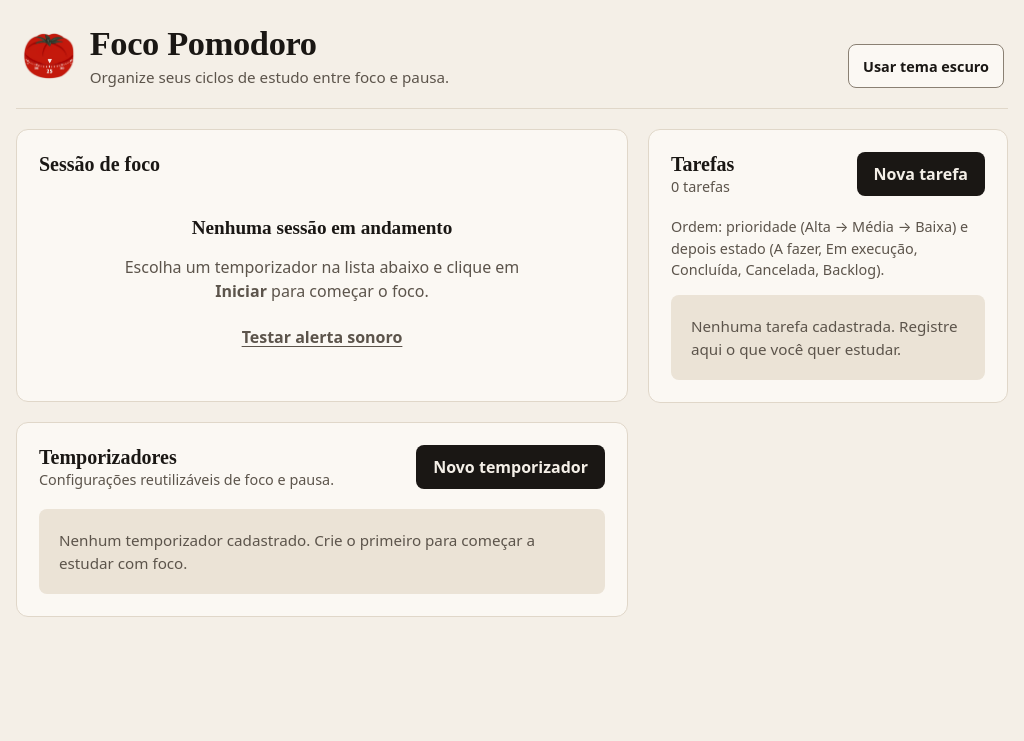
Test case: temporizadores personalizados (UC01, UC02, UC03) › cria um temporizador válido e o exibe na lista
Click the button "Novo temporizador". click: [511, 467]
box: [416,445,605,489]
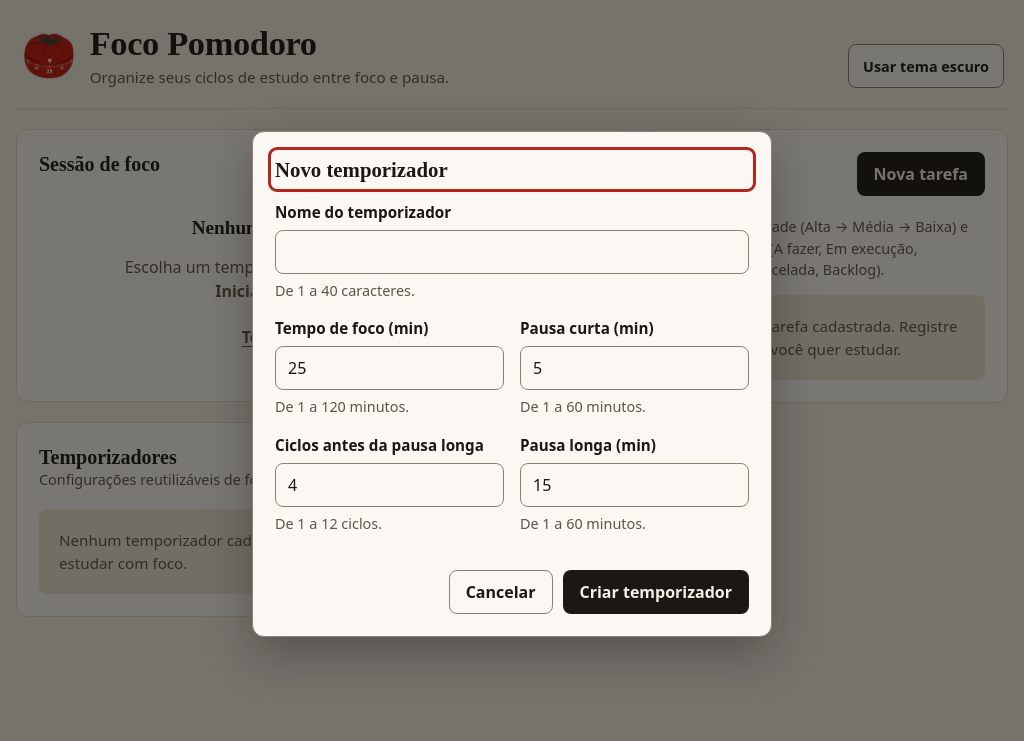
Type "Matemática" into the field labelled "Nome do temporizador". click: [512, 252]
box: [275,230,749,274]
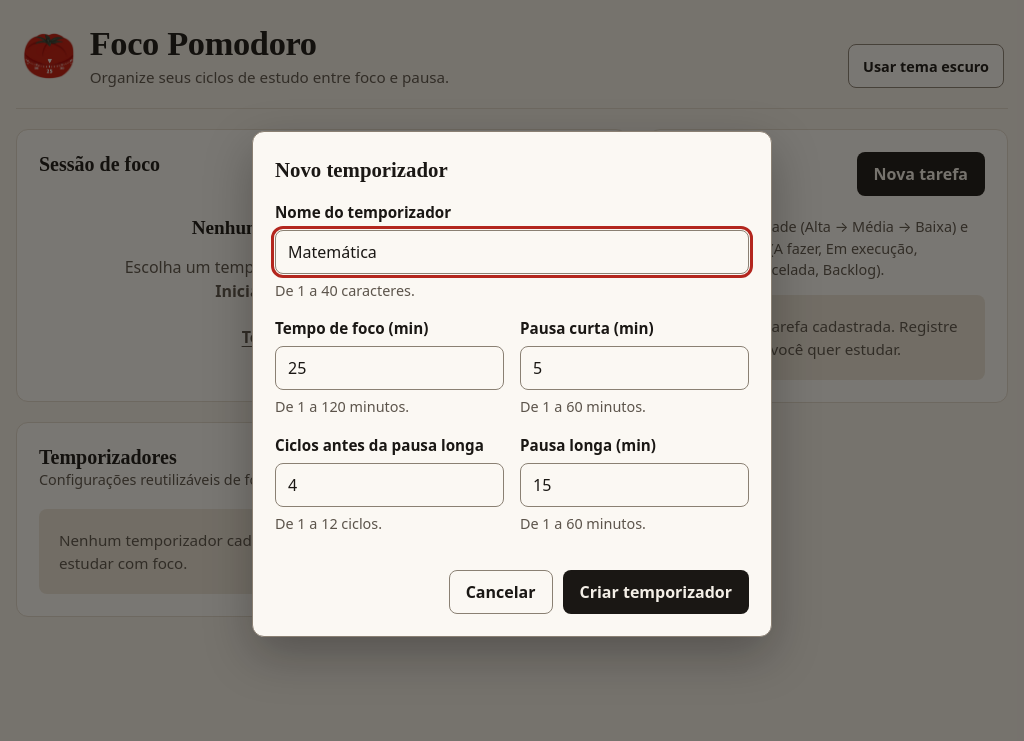
Click the button "Criar temporizador". click: [656, 592]
box: [562,570,749,614]
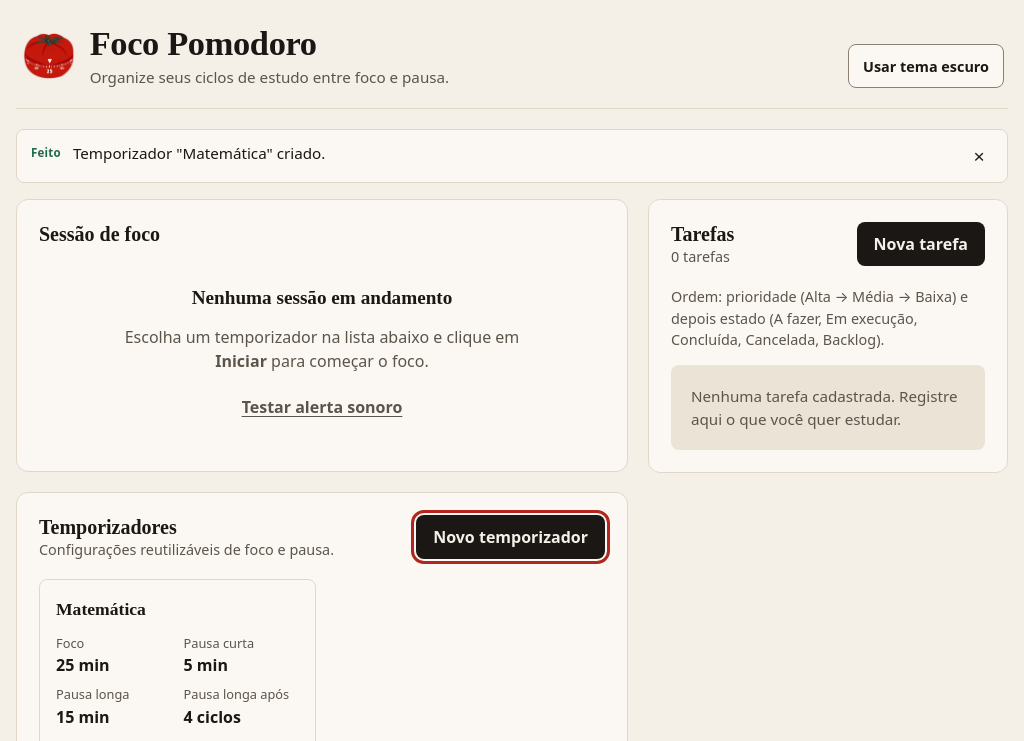
Expected: the heading "Matemática" is shown, [56,596,146,622]
